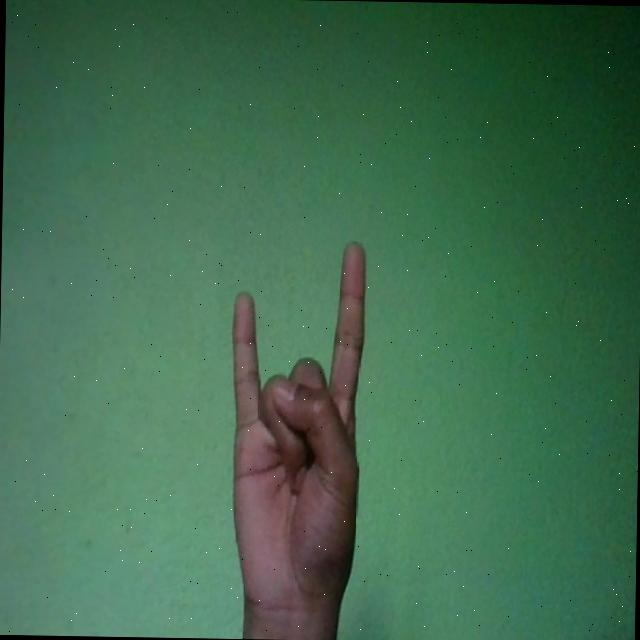open Plam: (225, 238, 367, 626)
